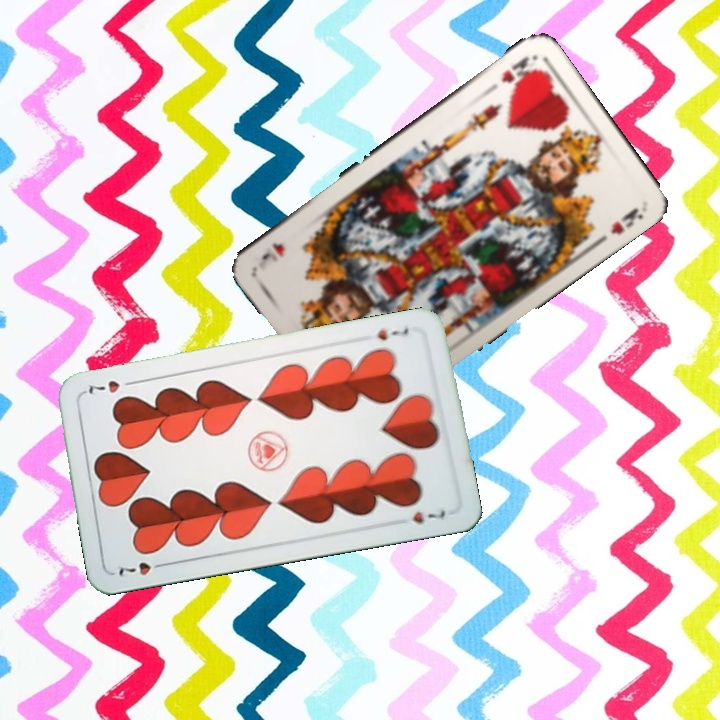H7: (114, 558, 170, 579), (373, 324, 411, 343)
HK: (485, 52, 540, 95)
